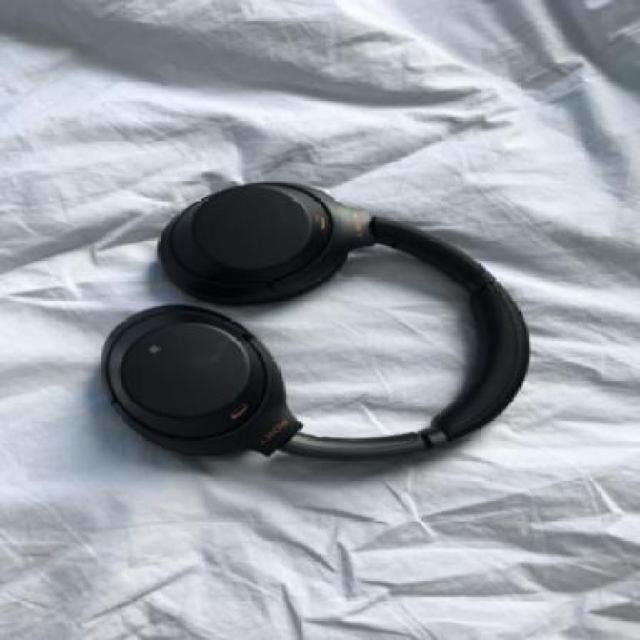earphone: (73, 89, 582, 564)
